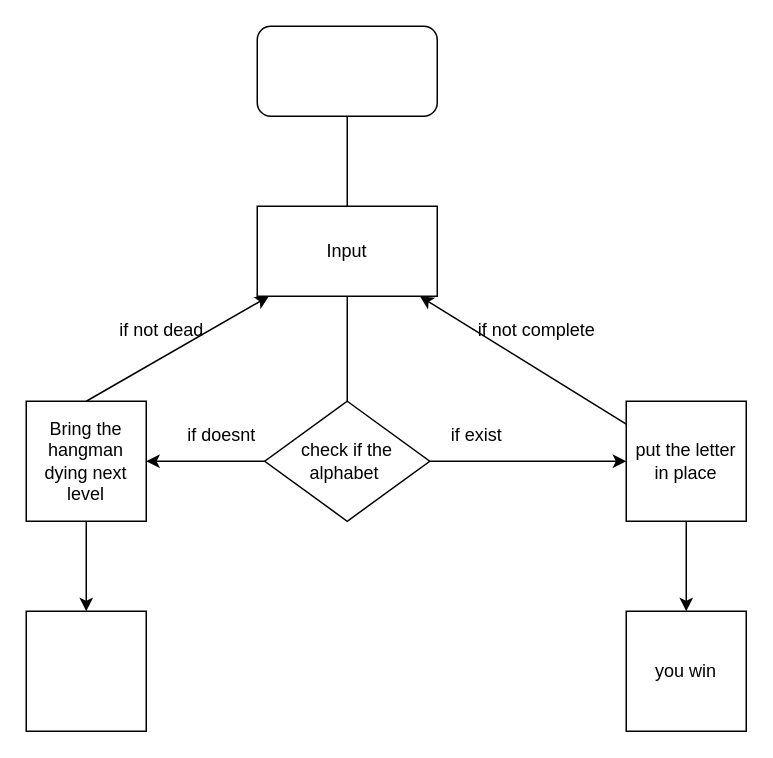
Some shapes in this 773 by 758 pixel diagram are drawn without their labels. The centre of each missing label's shape, as x and y in pixels:
Start: [346,70]
you loose: [85,670]
